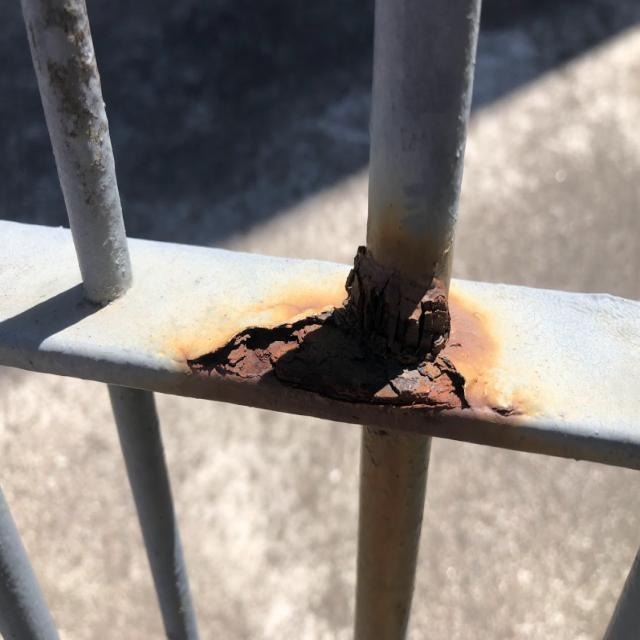Corrosion: (181, 212, 540, 452)
